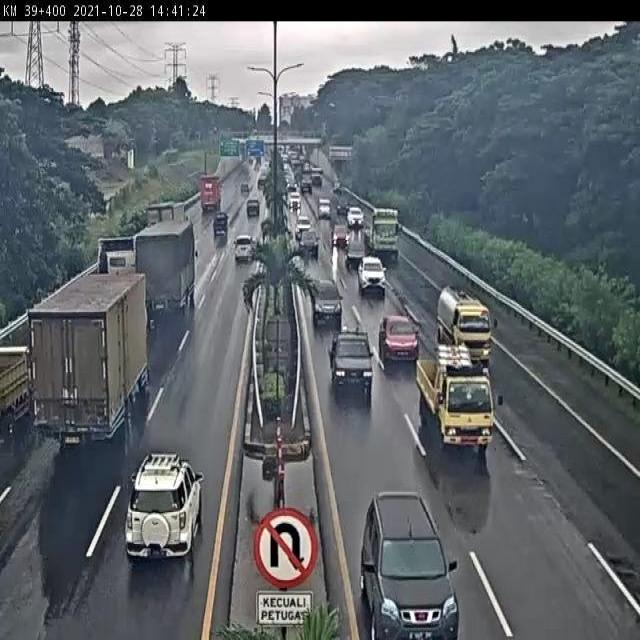big truck: (86, 233, 139, 304)
car: (360, 492, 461, 640), (125, 453, 202, 563), (329, 327, 374, 396), (379, 315, 421, 365), (310, 278, 344, 326), (358, 256, 387, 295), (233, 235, 255, 260)
mid truck: (26, 269, 149, 443), (135, 218, 197, 314), (144, 198, 187, 242)
small truck: (416, 345, 496, 455)
truck-m-: (436, 284, 494, 368)
